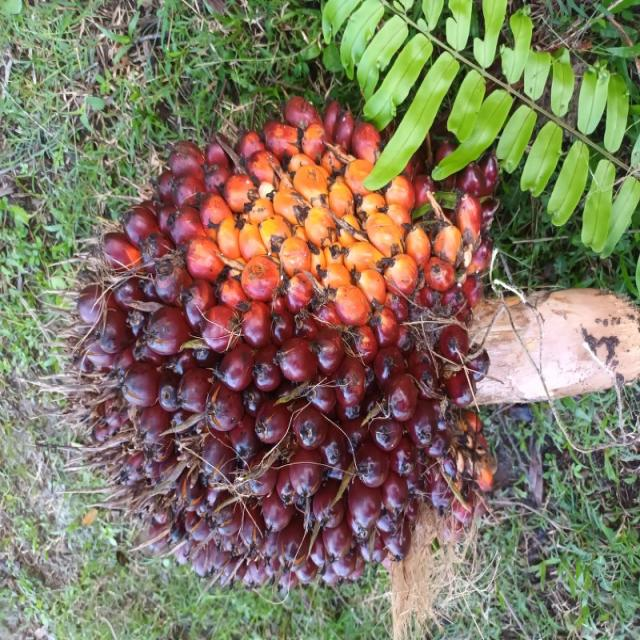fraksi 1: (133, 9, 560, 535)
